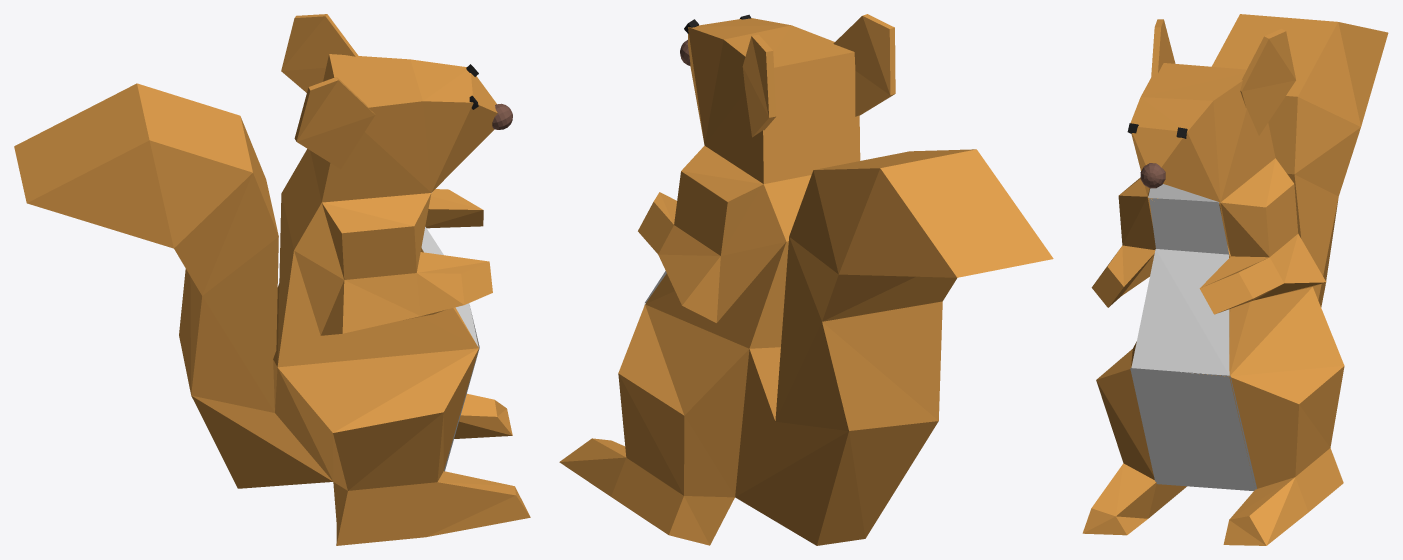
The picture shows the model from 3 angles, left to right: view 1: azimuth 30°, elevation 25°; view 2: azimuth 150°, elevation 25°; view 3: azimuth 270°, elevation 25°; orthographic projection. The views are drawn at different scales.
Visible parts, largest first — view 1: group_270929860; view 2: group_270929860; view 3: group_270929860, mesh_564686935.
Part boxes in pixels (x1,y1,x2,y2): group_270929860: (14,14,530,545); group_270929860: (559,14,1053,545); group_270929860: (1082,14,1388,545); mesh_564686935: (1140,163,1165,188).
Size of the model in its own units: 40 by 39.29 by 23.41.
